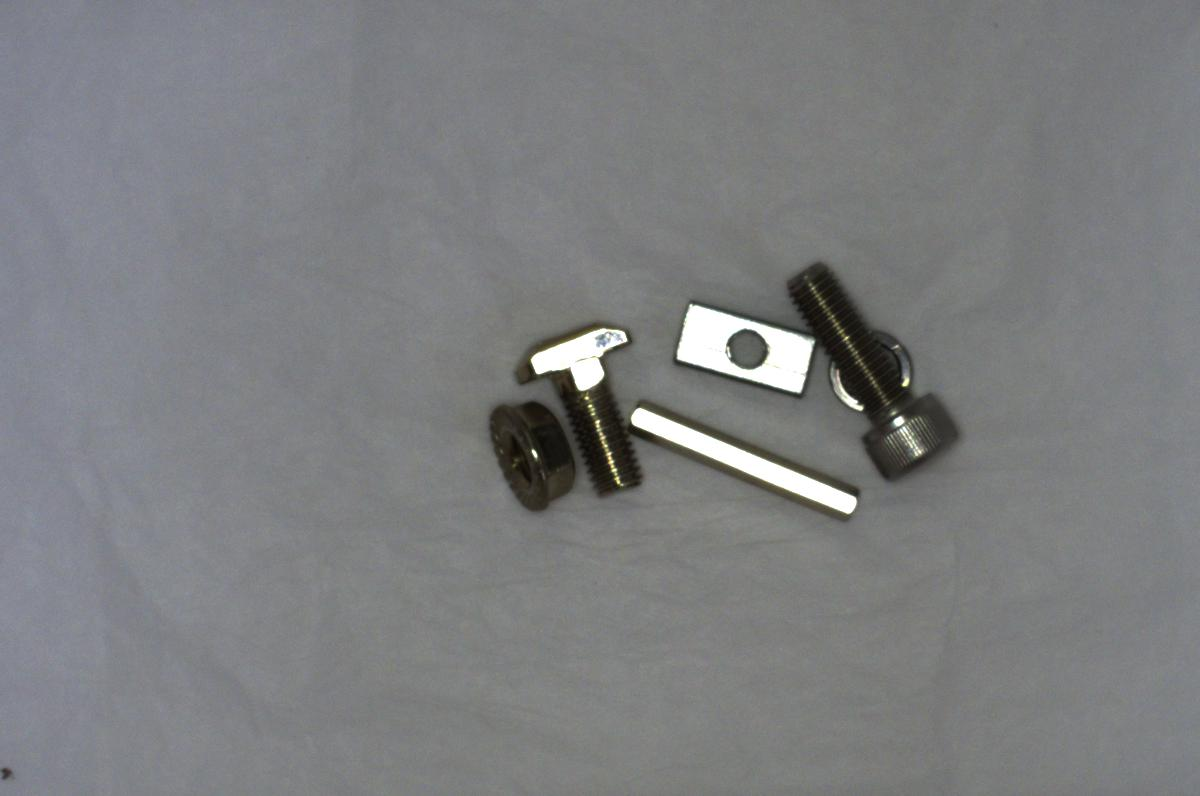Double hexagonal column: (623, 395, 858, 531)
Flange nut: (478, 396, 585, 523)
Hexagon screw: (793, 259, 971, 481)
Rectangular nut: (661, 292, 814, 399)
Spring washer: (824, 330, 917, 414)
T-shaped screw: (515, 317, 650, 492)
